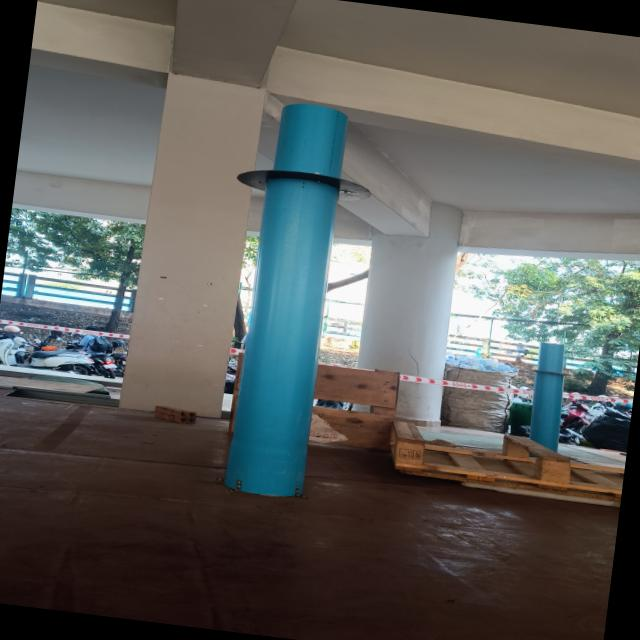pole: (203, 83, 407, 267)
